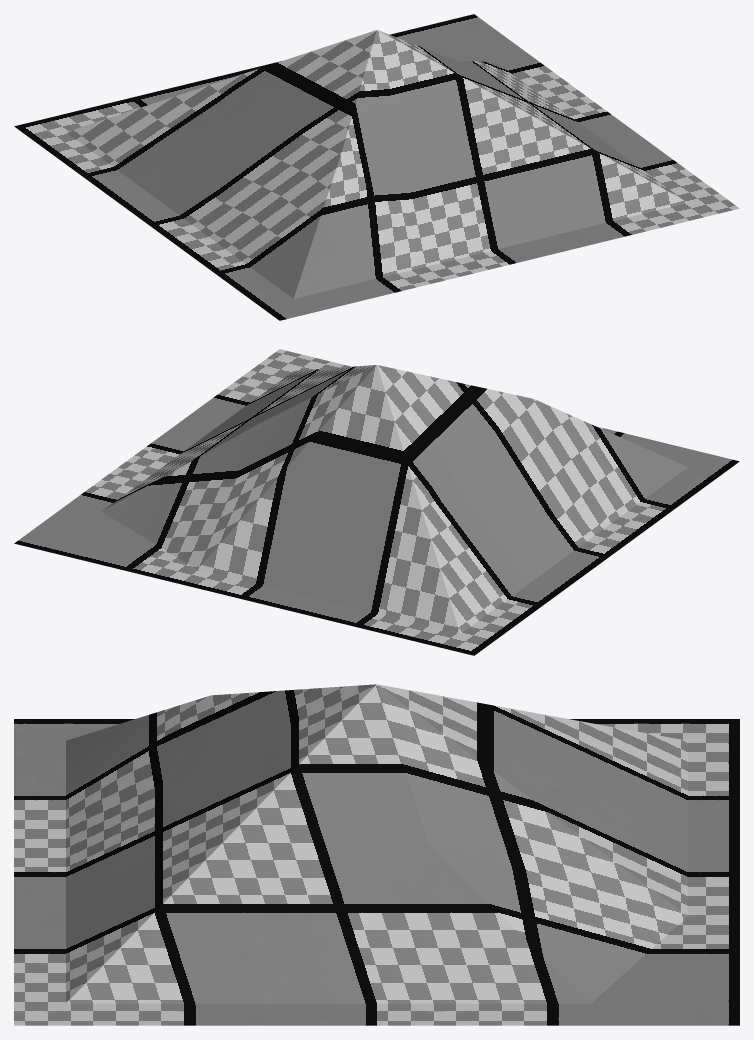
The model's file is roof_6842003.glb.
The picture shows the model from 3 angles, top to bottom: view 1: azimuth 30°, elevation 25°; view 2: azimuth 150°, elevation 25°; view 3: azimuth 270°, elevation 25°; orthographic projection. The views are drawn at different scales.
Visible parts, largest first — view 1: mesh; view 2: mesh; view 3: mesh.
Boxes of the visible parts, bbox=[...] form: mesh: bbox=[14, 14, 739, 320]; mesh: bbox=[14, 349, 739, 655]; mesh: bbox=[14, 684, 739, 1025].
Size of the model in its own units: 14 by 4 by 14.
Materials: 1 (1 with a texture image).
